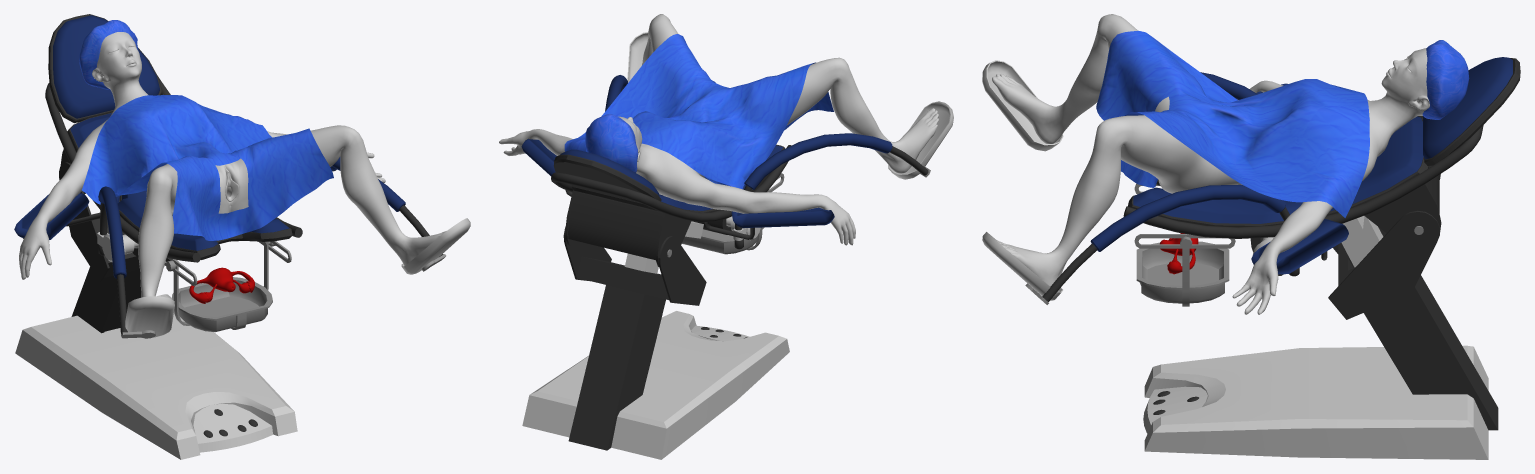
Rendered from vkresle-demo.FBX.
The picture shows the model from 3 angles, left to right: view 1: azimuth 30°, elevation 25°; view 2: azimuth 150°, elevation 25°; view 3: azimuth 270°, elevation 25°; orthographic projection. The views are drawn at different scales.
Visible parts, largest first — view 1: Kreslo, cloth, body, matka001; view 2: Kreslo, cloth, body; view 3: Kreslo, cloth, body, matka001.
Boxes of the visible parts, box(x1,y1,x2,y2) form: Kreslo: box(14, 14, 470, 459); cloth: box(79, 20, 333, 240); body: box(19, 32, 446, 297); matka001: box(189, 267, 254, 303); Kreslo: box(521, 32, 953, 459); cloth: box(564, 34, 833, 188); body: box(499, 14, 938, 245); Kreslo: box(982, 57, 1520, 459); cloth: box(1096, 30, 1469, 217); body: box(992, 14, 1429, 314); matka001: box(1160, 233, 1198, 274).
Bounding box in the file's own units: 2.12 × 1.83 × 2.38.
